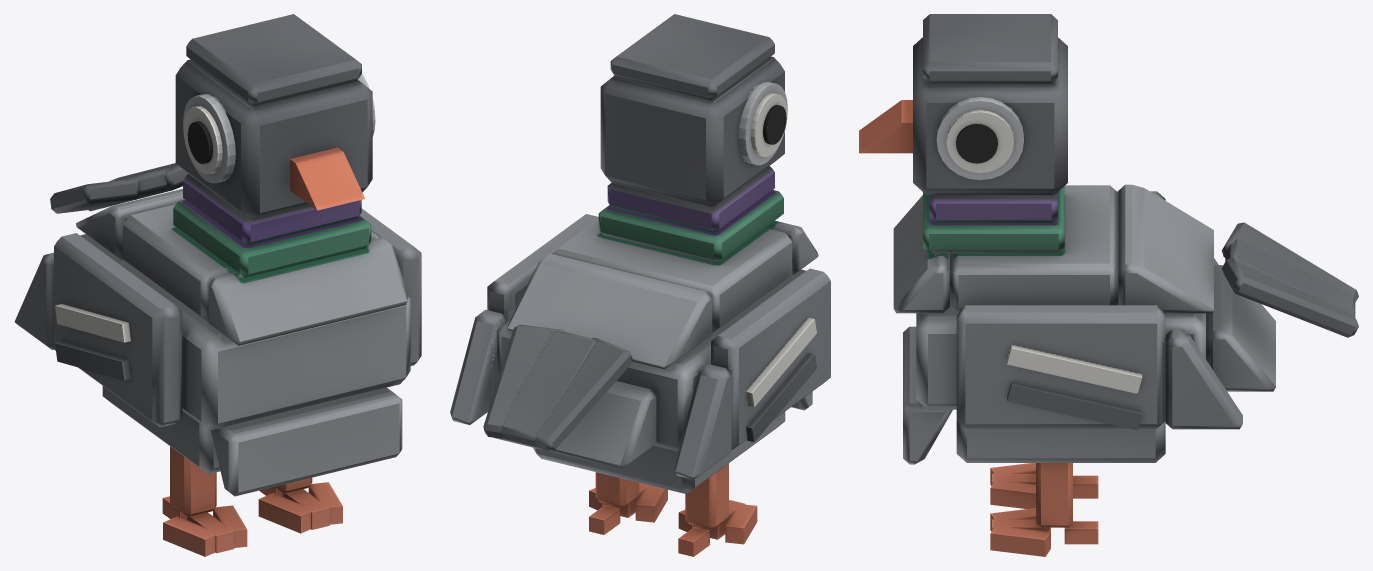
Rendered from PigeonVilles_Rig.fbx.
3 views of the same model, side by side, from view 1: azimuth 30°, elevation 25°; view 2: azimuth 150°, elevation 25°; view 3: azimuth 270°, elevation 25° (orthographic). The views are drawn at different scales.
Visible parts, largest first — view 1: Body, Head, WingR, LegR, LegL, Tail, WingL; view 2: Body, Head, WingR, Tail, WingL, LegR, LegL; view 3: Body, WingL, Head, Tail, LegL, LegR.
Boxes of the visible parts, left/top/right/bottom form: Body: left=76, top=174, right=410, bottom=496; Head: left=175, top=14, right=375, bottom=220; WingR: left=14, top=233, right=182, bottom=427; LegR: left=162, top=446, right=247, bottom=556; LegL: left=258, top=477, right=342, bottom=533; Tail: left=50, top=163, right=188, bottom=213; WingL: left=360, top=208, right=421, bottom=365; Body: left=493, top=166, right=818, bottom=493; Head: left=600, top=14, right=787, bottom=207; WingR: left=674, top=268, right=830, bottom=479; Tail: left=483, top=324, right=632, bottom=451; WingL: left=450, top=214, right=598, bottom=424; LegR: left=678, top=463, right=757, bottom=556; LegL: left=589, top=472, right=667, bottom=534; Body: left=893, top=184, right=1275, bottom=464; WingL: left=956, top=305, right=1242, bottom=430; Head: left=859, top=14, right=1067, bottom=194; Tail: left=1221, top=222, right=1358, bottom=337; LegL: left=990, top=463, right=1098, bottom=556; LegR: left=990, top=463, right=1098, bottom=508.
Bounding box in the file's own units: 3.61 × 6 × 5.67.
1 material, 1 textured.
